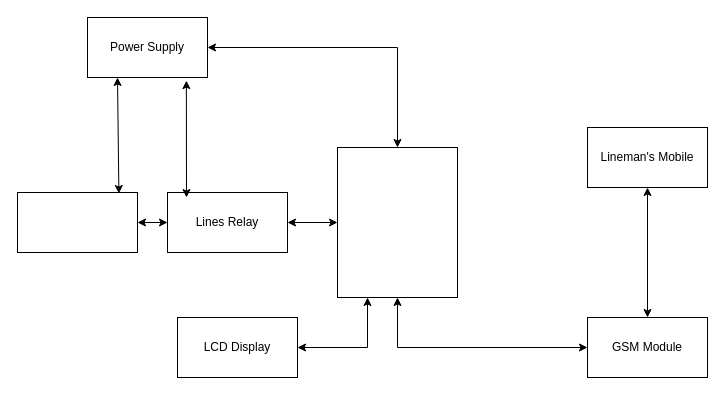
Image size: 725x395. Some labels were removed from this diagram. Each missing label, with the centre of its shape:
Arduino UNO: the point at 397,222
LOAD (Electric line): the point at 77,222
